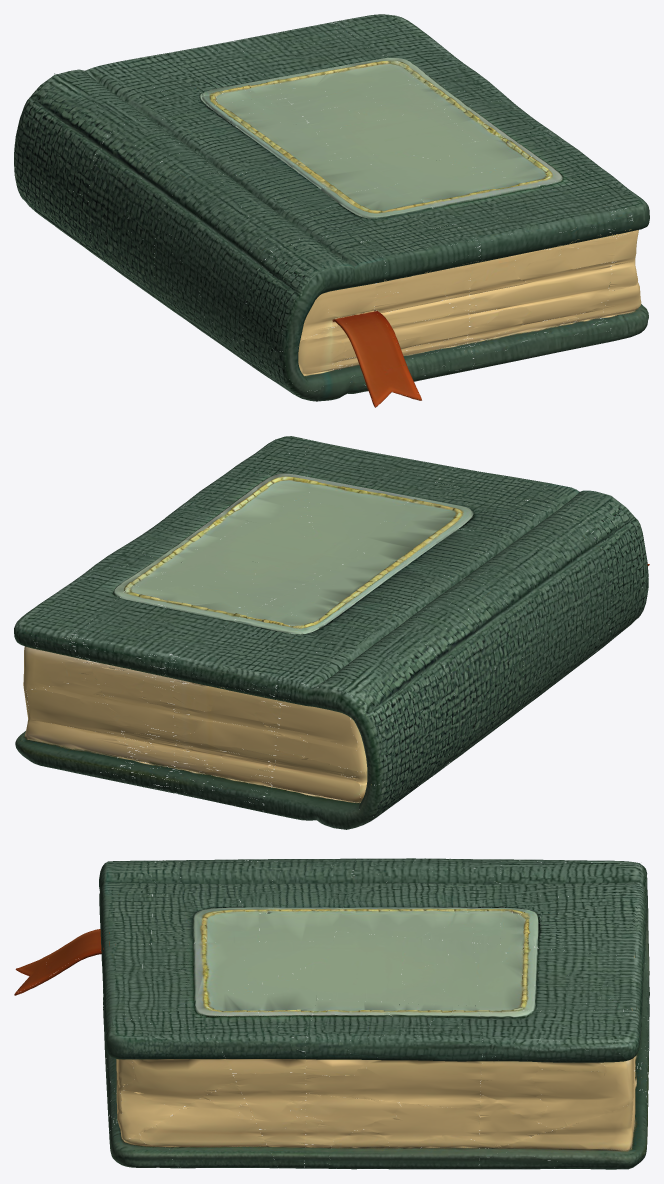
The model's file is journal.parts.glb.
3 views of the same model, one above another, from view 1: azimuth 30°, elevation 25°; view 2: azimuth 150°, elevation 25°; view 3: azimuth 270°, elevation 25° (orthographic).
Visible parts, largest first — view 1: cover, body; view 2: cover, body; view 3: cover, body.
Boxes of the visible parts, box(x1,y1,x2,y2) form: cover: box(26, 14, 647, 300); body: box(14, 101, 649, 407); cover: box(15, 436, 639, 719); body: box(14, 523, 649, 829); cover: box(99, 858, 647, 1049); body: box(14, 877, 649, 1169).
Size of the model in its own units: 0.7003 by 0.2685 by 1.01.
1 material, 1 textured.
